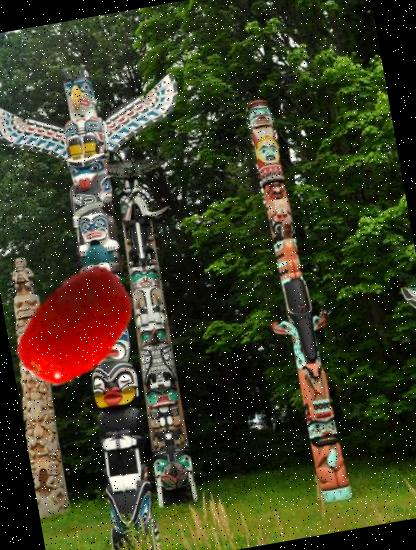Tomato: (0, 250, 152, 404)
